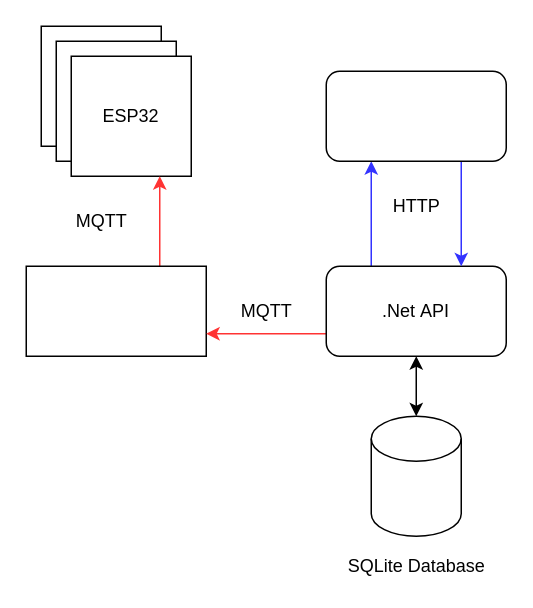
This 533x608 diagram has some shape labels left out. The shapes that lost their labels are listed below. From the top down, each one's box as (x1, y1, x2, y2) in pixels, then its label:
(325, 70, 506, 161): Flutter App
(25, 265, 206, 356): Flespi
